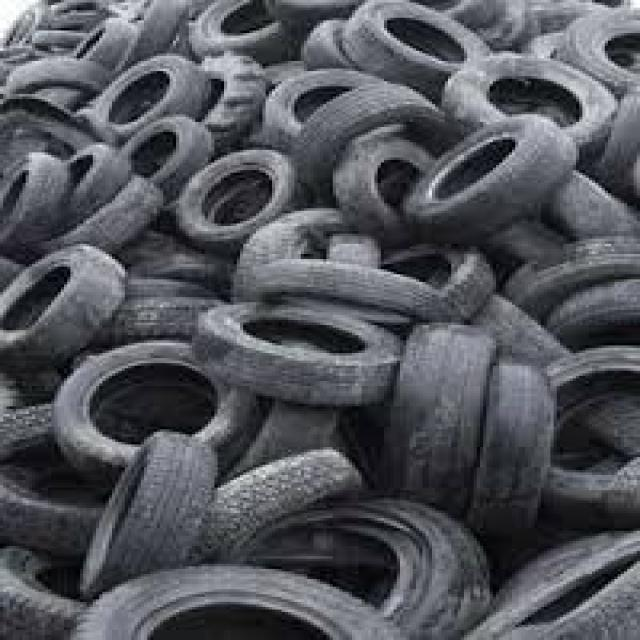Rubber -Non-Biodegradable but Recyclable-: (0, 5, 638, 638)
